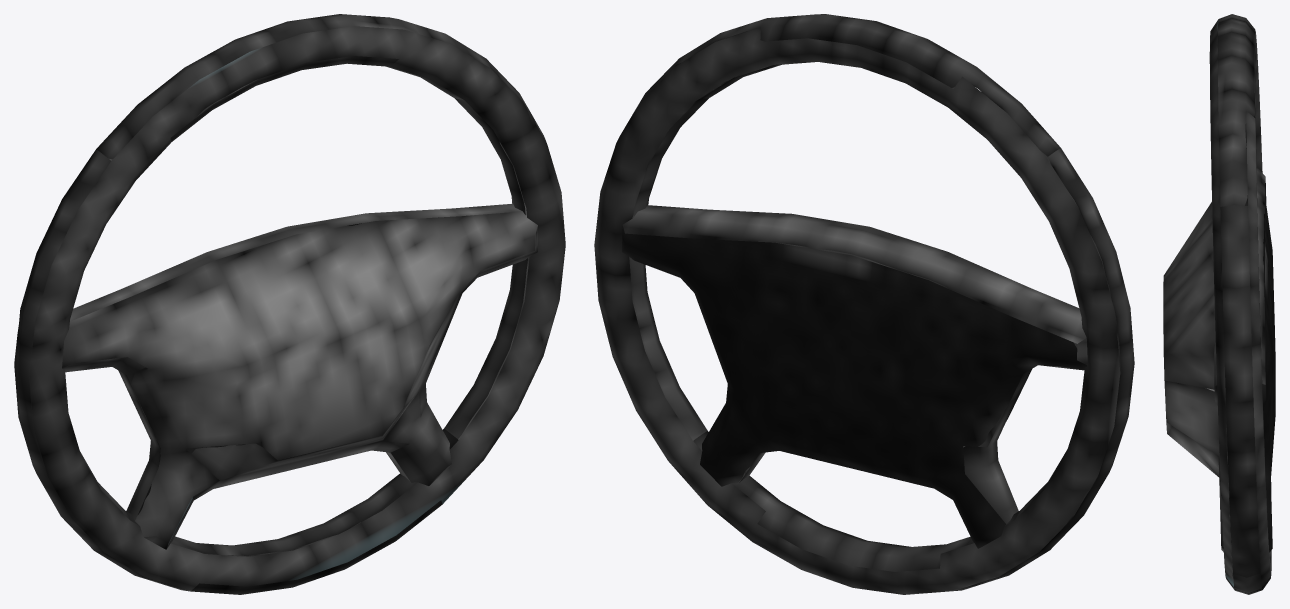
File: jeep_steeringwheel.obj
The picture shows the model from 3 angles, left to right: view 1: azimuth 30°, elevation 25°; view 2: azimuth 150°, elevation 25°; view 3: azimuth 270°, elevation 25°; orthographic projection. The views are drawn at different scales.
Bounding box in the file's own units: 0.5299 × 0.5296 × 0.1023.
